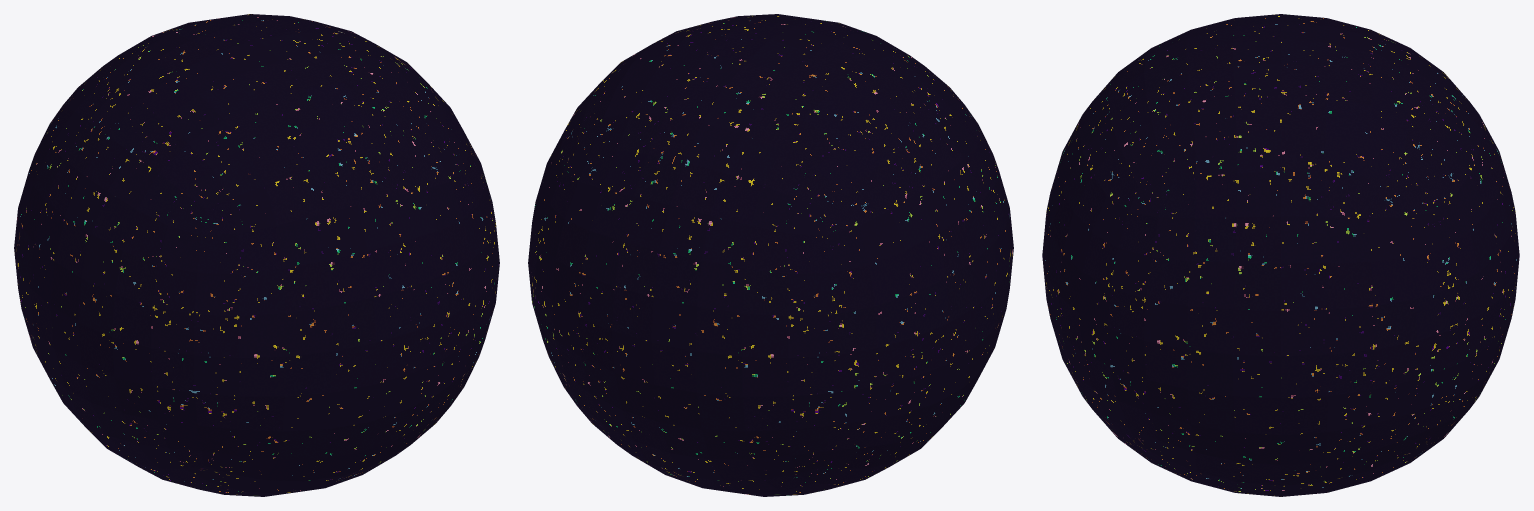
File: sky.glb
3 views of the same model, side by side, from view 1: azimuth 30°, elevation 25°; view 2: azimuth 150°, elevation 25°; view 3: azimuth 270°, elevation 25° (orthographic).
Visible parts, largest first — view 1: Cube; view 2: Cube; view 3: Cube.
Boxes of the visible parts, box(x1,y1,x2,y2) form: Cube: box(14, 14, 499, 496); Cube: box(528, 14, 1013, 496); Cube: box(1042, 14, 1519, 496).
Bounding box in the file's own units: 33.58 × 33.58 × 33.58.
1 material, 1 textured.
